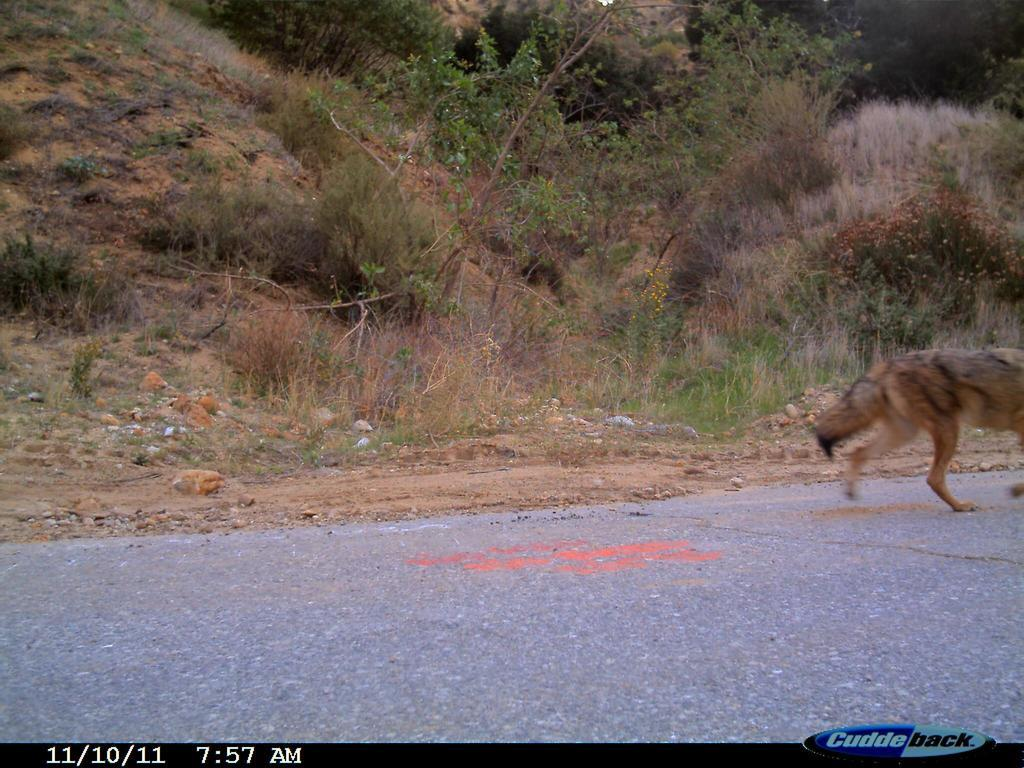coyote: (792, 335, 1023, 518)
